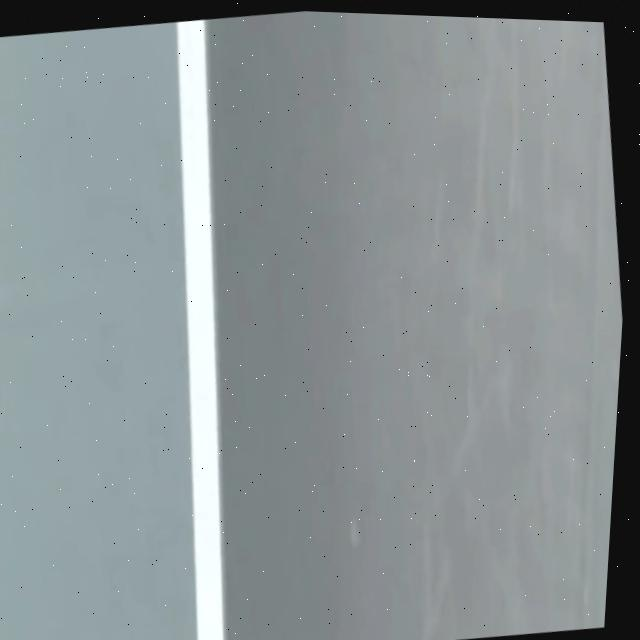left: (175, 19, 224, 640)
